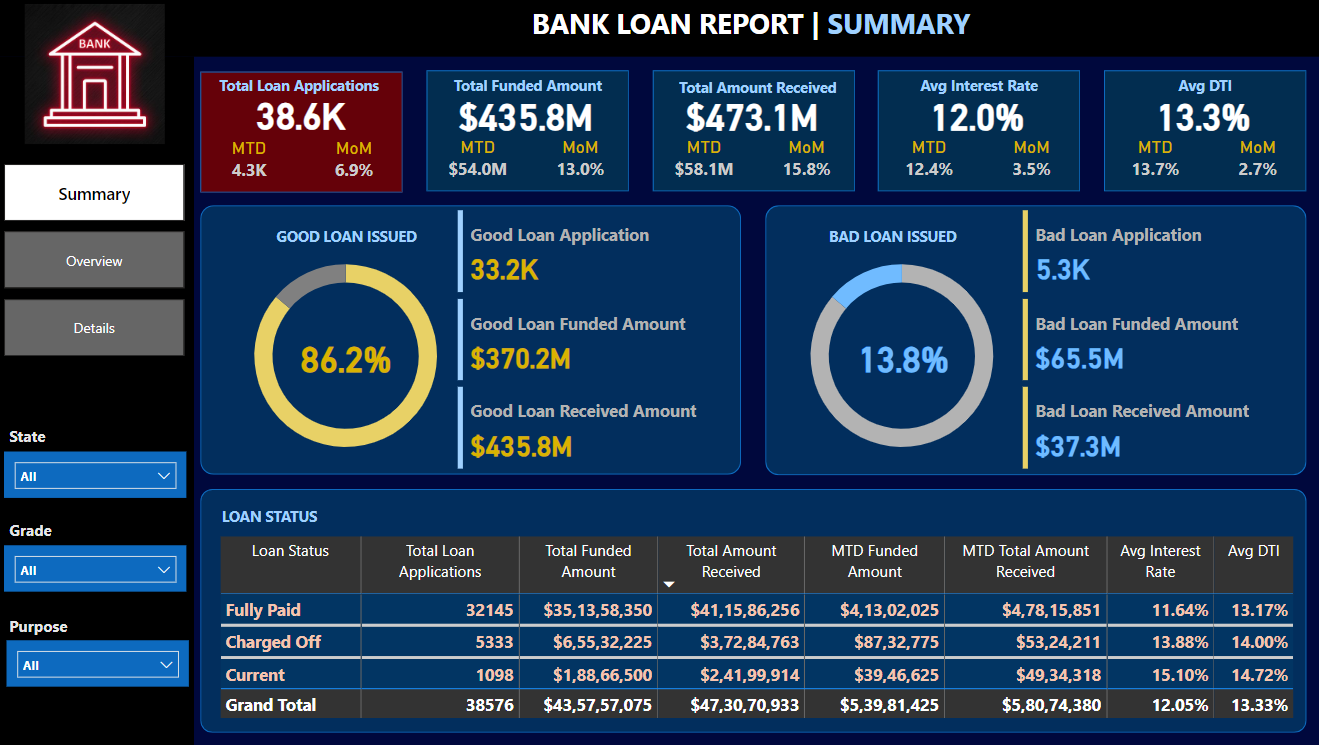

This screenshot's page, from the dashboard's own definition file:
{"tool":"powerbi","page":{"name":"Summary","canvas":[1280,720],"ordinal":0},"visuals":[{"type":"shape","box":[0,0,1280.5,55.7],"z":0},{"type":"image","box":[9.7,0,174.9,144.8],"z":0,"group":"g6"},{"type":"shape","box":[417.1,68.8,195.4,117],"z":0,"group":"g2"},{"type":"shape","box":[635.2,68.8,195.4,117],"z":0,"group":"g3"},{"type":"shape","box":[853.3,68.8,195.4,117],"z":0,"group":"g4"},{"type":"shape","box":[1071.3,68.8,195.4,117],"z":0,"group":"g5"},{"type":"shape","box":[199.1,70.4,195.4,117],"z":0,"group":"g1"},{"type":"slicer","fields":{"Values":["bank_loan_data.purpose"]},"box":[12,618.7,176.1,44.6],"z":0,"group":"g8"},{"type":"card","fields":{"Values":["Calculation.Total Loan Applications"]},"box":[235.3,87.3,121.9,47.1],"z":1000,"group":"g1"},{"type":"card","fields":{"Values":["Calculation.Total Funded Amount"]},"box":[443,89.9,141.2,42.2],"z":1000,"group":"g2"},{"type":"card","fields":{"Values":["Calculation.Total Amount Received"]},"box":[661.1,89.9,141.2,42.2],"z":1000,"group":"g3"},{"type":"card","fields":{"Values":["Calculation.Average Interest Rate"]},"box":[879.2,89.9,141.2,42.2],"z":1000,"group":"g4"},{"type":"card","fields":{"Values":["Calculation.Avg DTI"]},"box":[1097.2,89.9,141.2,42.2],"z":1000,"group":"g5"},{"type":"pageNavigator","box":[9.7,159.3,174.9,185.8],"z":1000,"group":"g6"},{"type":"shape","box":[199.1,199.1,522,260],"z":1000},{"type":"textbox","box":[9.7,590.3,84.5,31.4],"z":1000,"group":"g8"},{"type":"shape","box":[1.2,55.5,191.8,664.7],"z":2000},{"type":"textbox","box":[206.6,68.8,176.1,29],"z":2000,"group":"g1"},{"type":"textbox","box":[432.8,68.8,164.1,32.6],"z":2000,"group":"g2"},{"type":"textbox","box":[869,68.8,164.1,32.6],"z":2000,"group":"g4"},{"type":"textbox","box":[1087,68.8,164.1,32.6],"z":2000,"group":"g5"},{"type":"textbox","box":[646.6,70.9,181,29],"z":2000,"group":"g3"},{"type":"card","title":"MTD","fields":{"Values":["Calculation.MTD Total Funded Amount"]},"box":[430.9,132.1,72.4,47.1],"z":3000,"group":"g2"},{"type":"card","title":"MTD","fields":{"Values":["Calculation.MTD Total Amount Received"]},"box":[649,132.1,72.4,47.1],"z":3000,"group":"g3"},{"type":"card","title":"MTD","fields":{"Values":["Calculation.MTD Avg Int Rate"]},"box":[867.1,132.1,72.4,47.1],"z":3000,"group":"g4"},{"type":"card","title":"MTD","fields":{"Values":["Calculation.MTD Avg DTI"]},"box":[1085.1,132.1,72.4,47.1],"z":3000,"group":"g5"},{"type":"card","title":"MTD","fields":{"Values":["Calculation.MTD Loan Applications"]},"box":[214.8,134.4,62.7,47.1],"z":3000,"group":"g1"},{"type":"card","fields":{"Values":["Calculation.Good Loan %"]},"box":[281.1,324.5,117,42.2],"z":3000},{"type":"card","title":"MoM","fields":{"Values":["Calculation.MoM Total Funded Amount"]},"box":[534.1,132.7,62.7,47.1],"z":4000,"group":"g2"},{"type":"card","title":"MoM","fields":{"Values":["Calculation.MoM Total Amount Received"]},"box":[752.2,132.7,62.7,47.1],"z":4000,"group":"g3"},{"type":"card","title":"MoM","fields":{"Values":["Calculation.MoM Avg Int rate"]},"box":[970.3,132.7,62.7,47.1],"z":4000,"group":"g4"},{"type":"card","title":"MoM","fields":{"Values":["Calculation.MoM Avg DTI"]},"box":[1188.3,132.7,62.7,47.1],"z":4000,"group":"g5"},{"type":"card","title":"MoM","fields":{"Values":["Calculation.MoM Loan Applications"]},"box":[316.1,134.4,62.7,47.1],"z":4000,"group":"g1"},{"type":"textbox","box":[252.1,214.7,176.1,29],"z":4000},{"type":"textbox","box":[514.4,0,447.6,55.7],"z":5000},{"type":"group","id":"g1","title":"Group 1","box":[199.1,68.8,195.4,118.2],"z":6000},{"type":"donutChart","fields":{"Category":["bank_loan_data.Good vs Bad Loan"],"Y":["Calculation.Total Loan Applications"]},"box":[214.7,229.2,249.7,230.4],"z":7000},{"type":"group","id":"g2","title":"Group 1","box":[417.1,68.8,195.4,117],"z":8000},{"type":"group","id":"g3","title":"Group 1","box":[635.2,68.8,195.4,117],"z":9000},{"type":"group","id":"g4","title":"Group 1","box":[853.3,68.8,195.4,117],"z":10000},{"type":"group","id":"g5","title":"Group 1","box":[1071.3,68.8,195.4,117],"z":11000},{"type":"shape","box":[744.4,199.1,522.4,260.6],"z":12000},{"type":"cardVisual","fields":{"Data":["Calculation.Good Loan Application","Calculation.Good Loan Funded Amount","Calculation.Good Loan Received Amount"]},"box":[442.8,199.1,266.6,261.8],"z":13000},{"type":"donutChart","fields":{"Category":["bank_loan_data.Good vs Bad Loan"],"Y":["Calculation.Total Loan Applications"]},"box":[751.6,229.2,249.7,230.4],"z":14000},{"type":"textbox","box":[779.4,214.7,176.1,29],"z":15000},{"type":"card","fields":{"Values":["Calculation.Bad Loan %"]},"box":[819.2,324.5,117,42.2],"z":16000},{"type":"shape","box":[199.1,472.9,1067.7,235.3],"z":17000},{"type":"cardVisual","fields":{"Data":["Calculation.Bad Loan Application","Calculation.Bad Loan Funded Amount","Calculation.Bad Loan Received Amount"]},"box":[988.1,199.1,266.6,261.8],"z":18000},{"type":"tableEx","fields":{"Values":["bank_loan_data.loan_status","Calculation.Total Loan Applications","Calculation.Total Funded Amount","Calculation.Total Amount Received","Calculation.MTD Total Funded Amount","Calculation.MTD Total Amount Received","Calculation.Average Interest Rate","Calculation.Avg DTI"]},"box":[212.3,513.9,1052,194.2],"z":19000},{"type":"textbox","box":[214.7,485,115.8,29],"z":20000},{"type":"group","id":"g6","title":"Group 3","box":[9.7,0,174.9,345],"z":21000},{"type":"slicer","fields":{"Values":["bank_loan_data.address_state"]},"box":[10.2,436.8,176.1,44.6],"z":21000,"group":"g7"},{"type":"group","id":"g7","title":"Group 4","box":[9.7,406.6,177.3,257],"z":22000},{"type":"textbox","box":[10.2,406.6,53.1,36.2],"z":22000,"group":"g7"},{"type":"slicer","fields":{"Values":["bank_loan_data.grade"]},"box":[10.2,527.2,176.1,44.6],"z":23000,"group":"g7"},{"type":"textbox","box":[10.2,497.1,68.8,36.2],"z":24000,"group":"g7"},{"type":"group","id":"g8","title":"Group 2","box":[9.7,590.3,178.4,73],"z":25000,"group":"g7"}]}

Visuals, with their boxes in screenshot pixels (x1, y1, x2, y2), scaled from the page's 1280x720 canvas onto the 1319x745 screenshot:
shape: x1=0 y1=0 x2=1318 y2=58
image: x1=10 y1=0 x2=190 y2=150
shape: x1=430 y1=71 x2=631 y2=192
shape: x1=655 y1=71 x2=856 y2=192
shape: x1=879 y1=71 x2=1081 y2=192
shape: x1=1104 y1=71 x2=1305 y2=192
shape: x1=205 y1=73 x2=407 y2=194
slicer - bank_loan_data.purpose: x1=12 y1=640 x2=194 y2=686
card - Calculation.Total Loan Applications: x1=242 y1=90 x2=368 y2=139
card - Calculation.Total Funded Amount: x1=456 y1=93 x2=602 y2=137
card - Calculation.Total Amount Received: x1=681 y1=93 x2=827 y2=137
card - Calculation.Average Interest Rate: x1=906 y1=93 x2=1051 y2=137
card - Calculation.Avg DTI: x1=1131 y1=93 x2=1276 y2=137
pageNavigator: x1=10 y1=165 x2=190 y2=357
shape: x1=205 y1=206 x2=743 y2=475
textbox: x1=10 y1=611 x2=97 y2=643
shape: x1=1 y1=57 x2=199 y2=744
textbox: x1=213 y1=71 x2=394 y2=101
textbox: x1=446 y1=71 x2=615 y2=105
textbox: x1=895 y1=71 x2=1065 y2=105
textbox: x1=1120 y1=71 x2=1289 y2=105
textbox: x1=666 y1=73 x2=853 y2=103
"MTD" card: x1=444 y1=137 x2=519 y2=185
"MTD" card: x1=669 y1=137 x2=743 y2=185
"MTD" card: x1=894 y1=137 x2=968 y2=185
"MTD" card: x1=1118 y1=137 x2=1193 y2=185
"MTD" card: x1=221 y1=139 x2=286 y2=188
card - Calculation.Good Loan %: x1=290 y1=336 x2=410 y2=379
"MoM" card: x1=550 y1=137 x2=615 y2=186
"MoM" card: x1=775 y1=137 x2=840 y2=186
"MoM" card: x1=1000 y1=137 x2=1064 y2=186
"MoM" card: x1=1225 y1=137 x2=1289 y2=186
"MoM" card: x1=326 y1=139 x2=390 y2=188
textbox: x1=260 y1=222 x2=441 y2=252
textbox: x1=530 y1=0 x2=991 y2=58
"Group 1" group: x1=205 y1=71 x2=407 y2=193
donutChart - bank_loan_data.Good vs Bad Loan x Calculation.Total Loan Applications: x1=221 y1=237 x2=479 y2=476
"Group 1" group: x1=430 y1=71 x2=631 y2=192
"Group 1" group: x1=655 y1=71 x2=856 y2=192
"Group 1" group: x1=879 y1=71 x2=1081 y2=192
"Group 1" group: x1=1104 y1=71 x2=1305 y2=192
shape: x1=767 y1=206 x2=1305 y2=476
cardVisual - Calculation.Good Loan Application x Calculation.Good Loan Funded Amount: x1=456 y1=206 x2=731 y2=477
donutChart - bank_loan_data.Good vs Bad Loan x Calculation.Total Loan Applications: x1=775 y1=237 x2=1032 y2=476
textbox: x1=803 y1=222 x2=985 y2=252
card - Calculation.Bad Loan %: x1=844 y1=336 x2=965 y2=379
shape: x1=205 y1=489 x2=1305 y2=733
cardVisual - Calculation.Bad Loan Application x Calculation.Bad Loan Funded Amount: x1=1018 y1=206 x2=1293 y2=477
tableEx - bank_loan_data.loan_status x Calculation.Total Loan Applications: x1=219 y1=532 x2=1303 y2=733
textbox: x1=221 y1=502 x2=341 y2=532
"Group 3" group: x1=10 y1=0 x2=190 y2=357
slicer - bank_loan_data.address_state: x1=11 y1=452 x2=192 y2=498
"Group 4" group: x1=10 y1=421 x2=193 y2=687
textbox: x1=11 y1=421 x2=65 y2=458
slicer - bank_loan_data.grade: x1=11 y1=546 x2=192 y2=592
textbox: x1=11 y1=514 x2=81 y2=552
"Group 2" group: x1=10 y1=611 x2=194 y2=686
